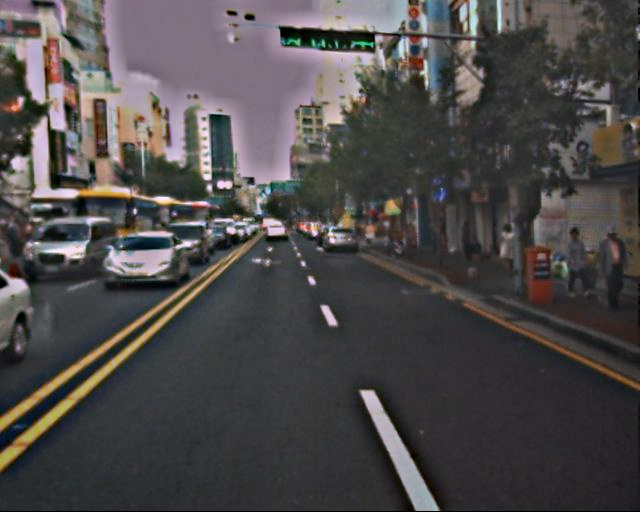person: (591, 225, 631, 306), (558, 224, 590, 301), (498, 222, 522, 280), (458, 218, 477, 264), (435, 216, 452, 257)
